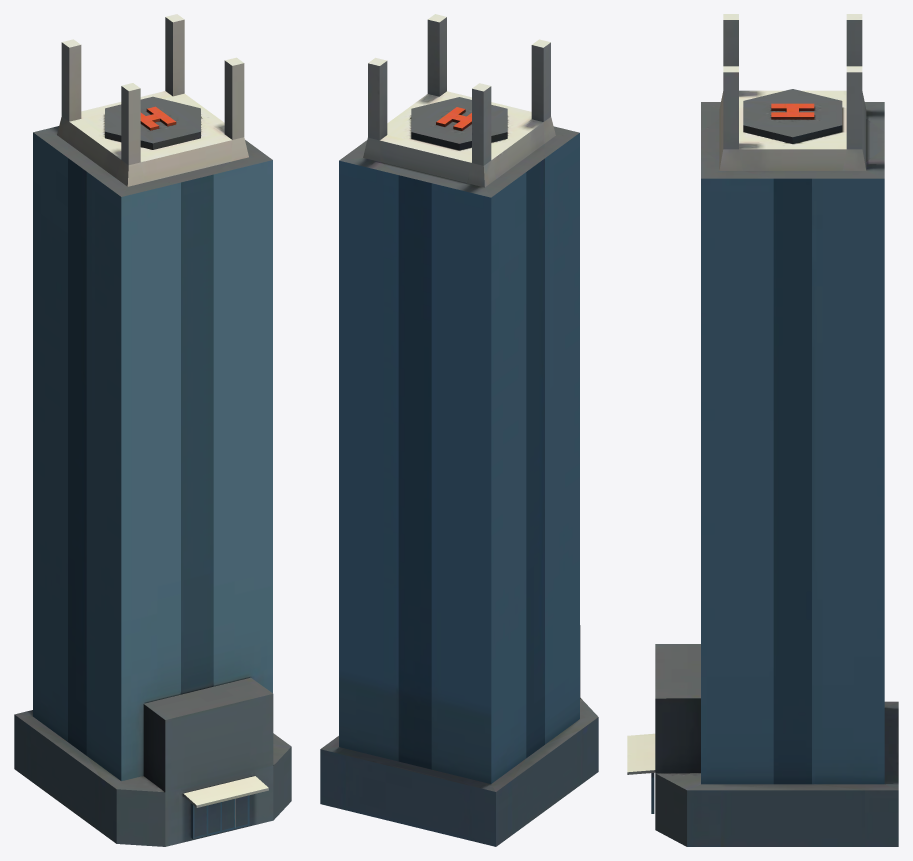
Rendered from Building 1-transformed.glb.
3 renders of one model, left to right at view 1: azimuth 30°, elevation 25°; view 2: azimuth 150°, elevation 25°; view 3: azimuth 270°, elevation 25°, orthographic. The views are drawn at different scales.
Visible parts, largest first — view 1: skyscraper; view 2: skyscraper; view 3: skyscraper.
Boxes of the visible parts, x1,y1,x2,y2 form: skyscraper: (14,14,291,846); skyscraper: (320,14,598,846); skyscraper: (627,14,898,846).
Size of the model in its own units: 0.903 by 3.61 by 1.17.
Materials: 1 (1 with a texture image).
